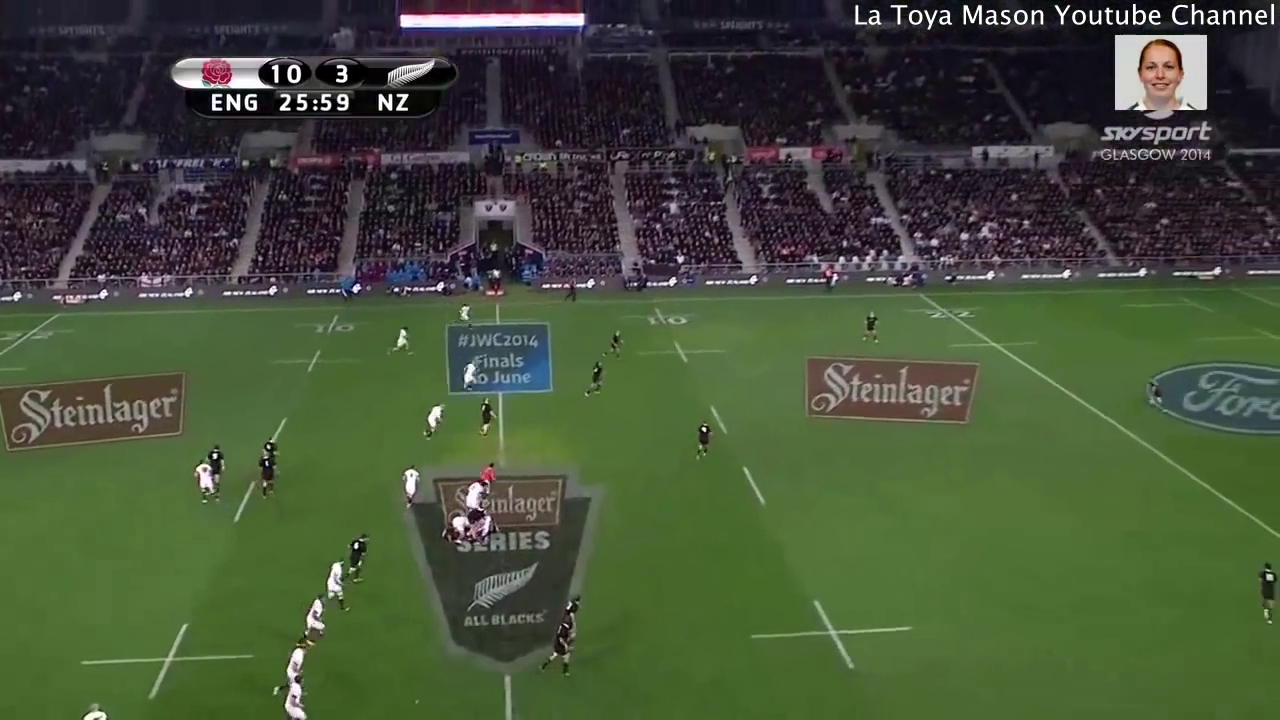10_metre: (739, 586, 928, 674), (636, 334, 734, 368), (259, 348, 362, 378), (614, 305, 719, 330), (288, 311, 379, 338)
player: (535, 611, 577, 682), (271, 635, 311, 695), (295, 589, 329, 651), (1253, 554, 1280, 631), (340, 530, 374, 589), (191, 456, 226, 508), (278, 671, 312, 720), (325, 553, 350, 617), (398, 460, 423, 520), (419, 399, 449, 445), (473, 394, 501, 443), (458, 474, 492, 514), (383, 323, 419, 360), (256, 451, 279, 508), (688, 420, 717, 464), (204, 442, 230, 489), (857, 304, 884, 349), (581, 360, 611, 400), (596, 327, 626, 364), (257, 435, 282, 478), (559, 590, 587, 628), (469, 510, 500, 544), (440, 511, 472, 542), (457, 358, 481, 397), (481, 457, 503, 499), (560, 277, 581, 310), (454, 303, 473, 332)
